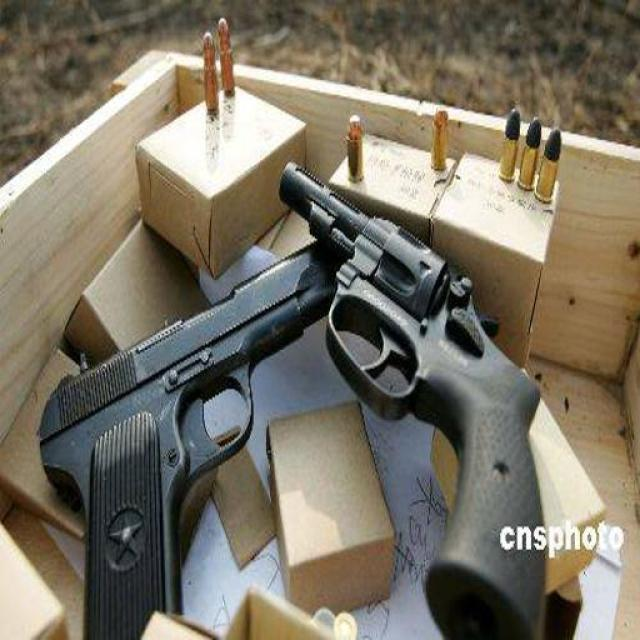pistol: (35, 224, 355, 640), (276, 156, 546, 640)
